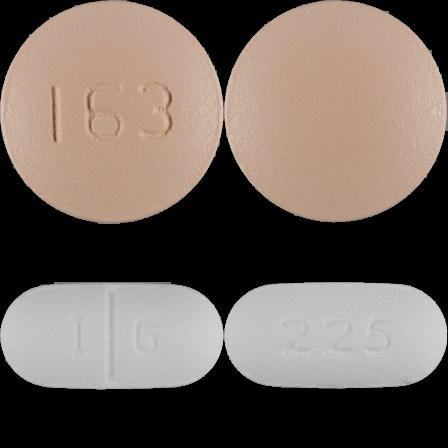55700-122: (0, 0, 224, 224)
